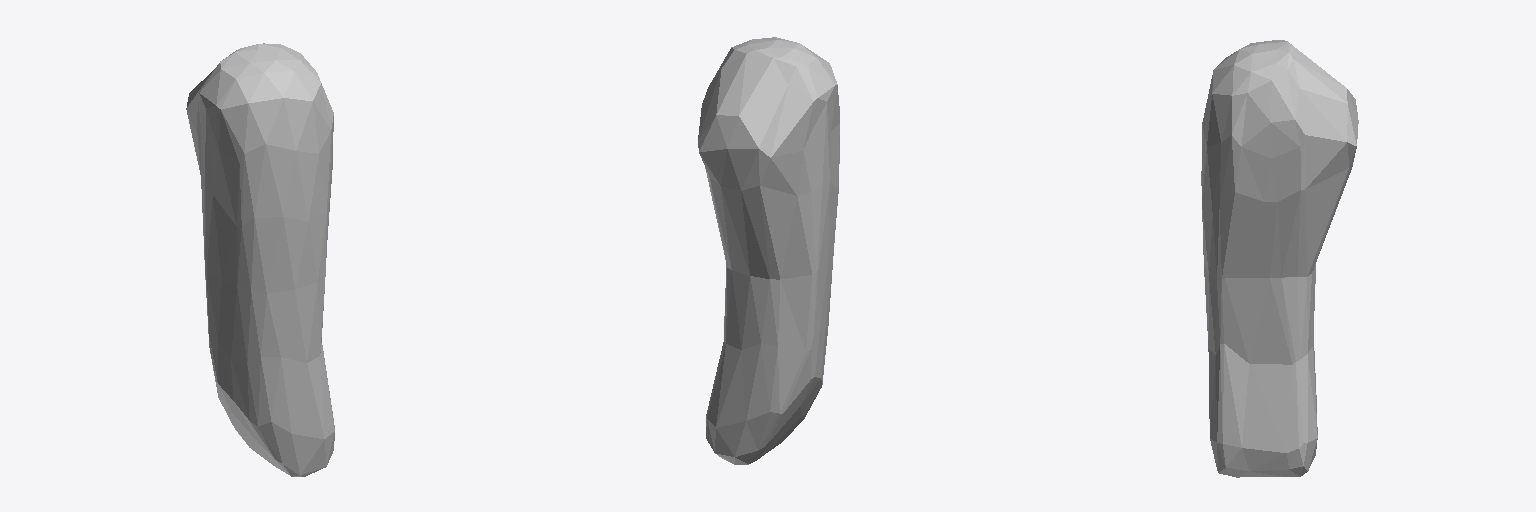
File: front_right_upper_leg_collision.obj
The picture shows the model from 3 angles: view 1: azimuth 30°, elevation 25°; view 2: azimuth 150°, elevation 25°; view 3: azimuth 270°, elevation 25°; orthographic projection.
Parts seen in each view (by area): view 1: front_right_upper_leg_collision; view 2: front_right_upper_leg_collision; view 3: front_right_upper_leg_collision.
Boxes of the visible parts, x1=… form: front_right_upper_leg_collision: x1=186, y1=43, x2=334, y2=476; front_right_upper_leg_collision: x1=698, y1=37, x2=839, y2=464; front_right_upper_leg_collision: x1=1201, y1=40, x2=1358, y2=477.
Bounding box in the file's own units: 0.1207 × 0.4377 × 0.1507.